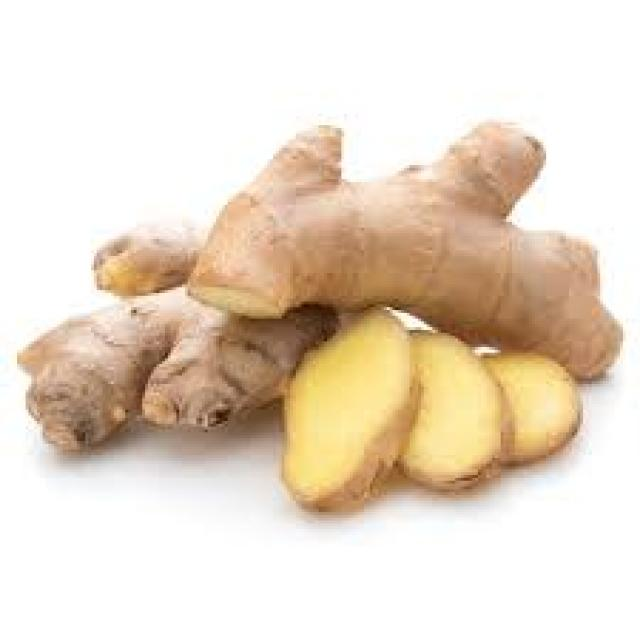ginger: (13, 98, 631, 516)
